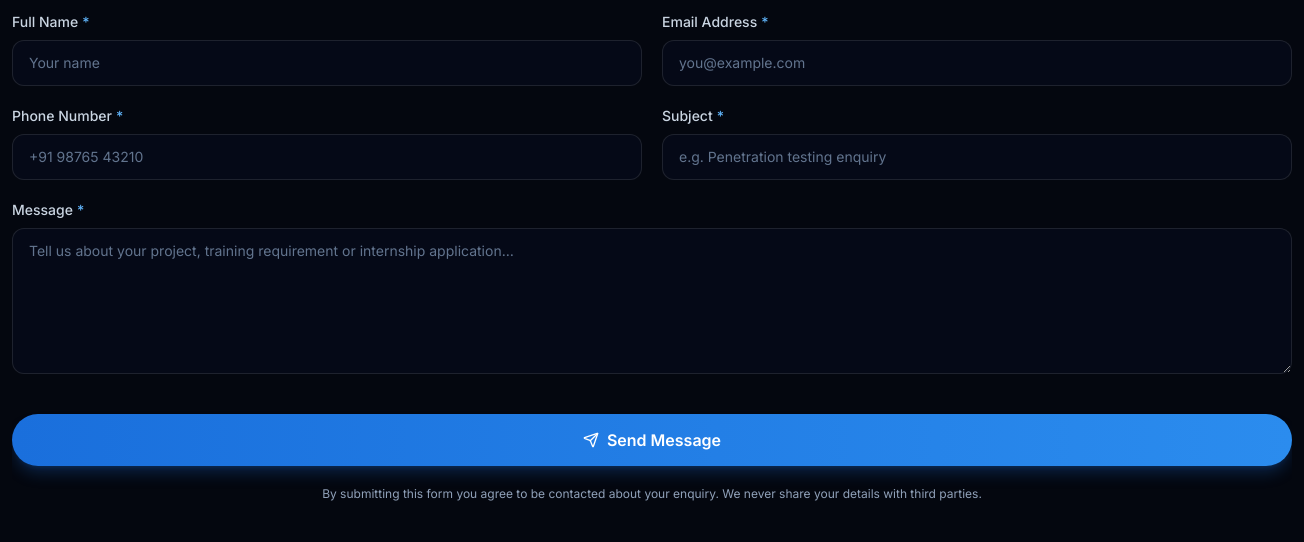
Scenario: ContactForm › rejects a message that is too short
Type "hi" into the text box labelled "Message*" at [652, 301], box [12, 228, 1292, 374]
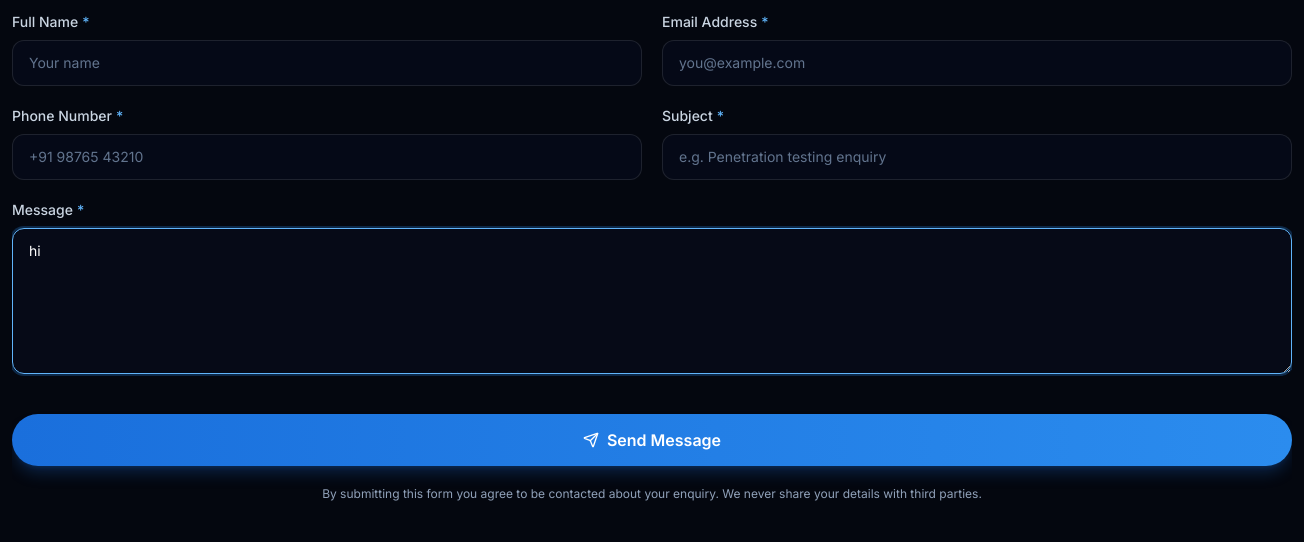
Press Tab
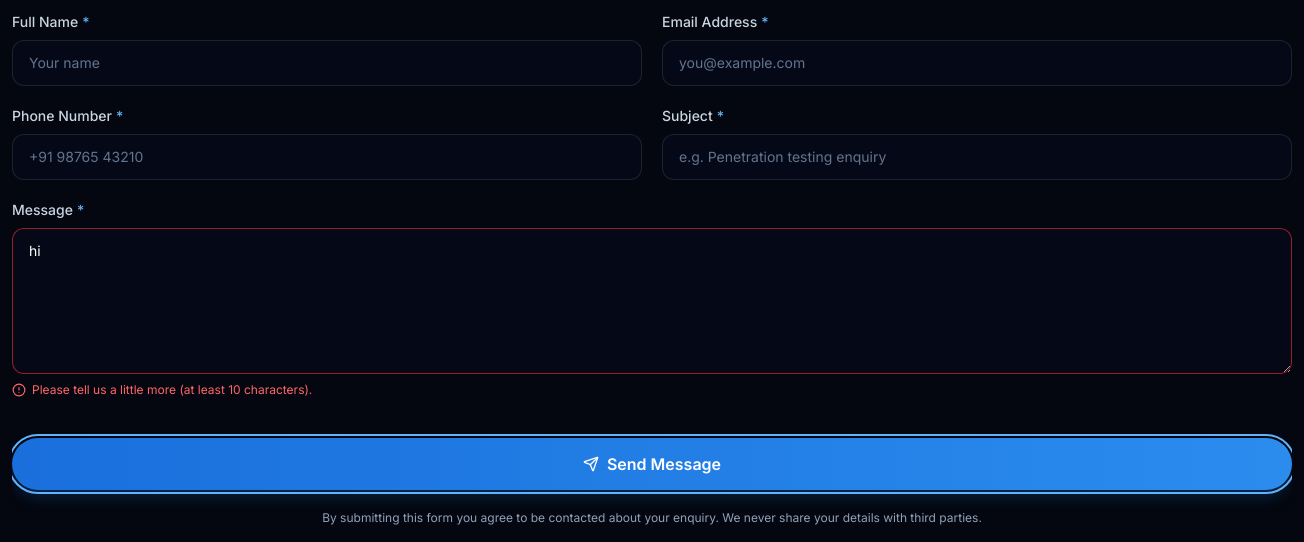
Check: the text "Please tell us a little more (at least 10 characters)." is shown, box [12, 382, 312, 397]
